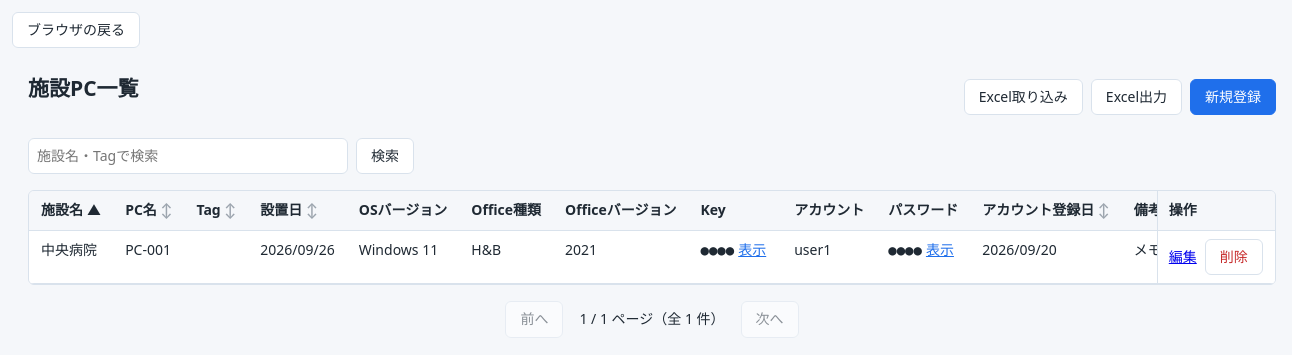
Test: FacilityPcListPage › Key は表示ボタンを押すと5桁ごとにハイフンを入れて表示する
The image size is (1292, 355).
Click the button named "Keyを表示": (752, 250) left=734, top=239, right=770, bottom=261
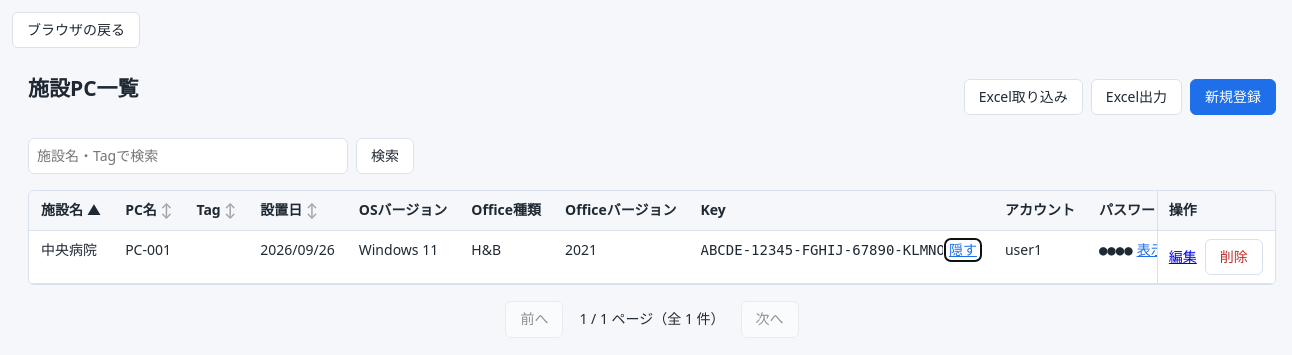
expect the text "ABCDE-12345-FGHIJ-67890-KLMNO" is shown: met, box left=700, top=242, right=945, bottom=258
